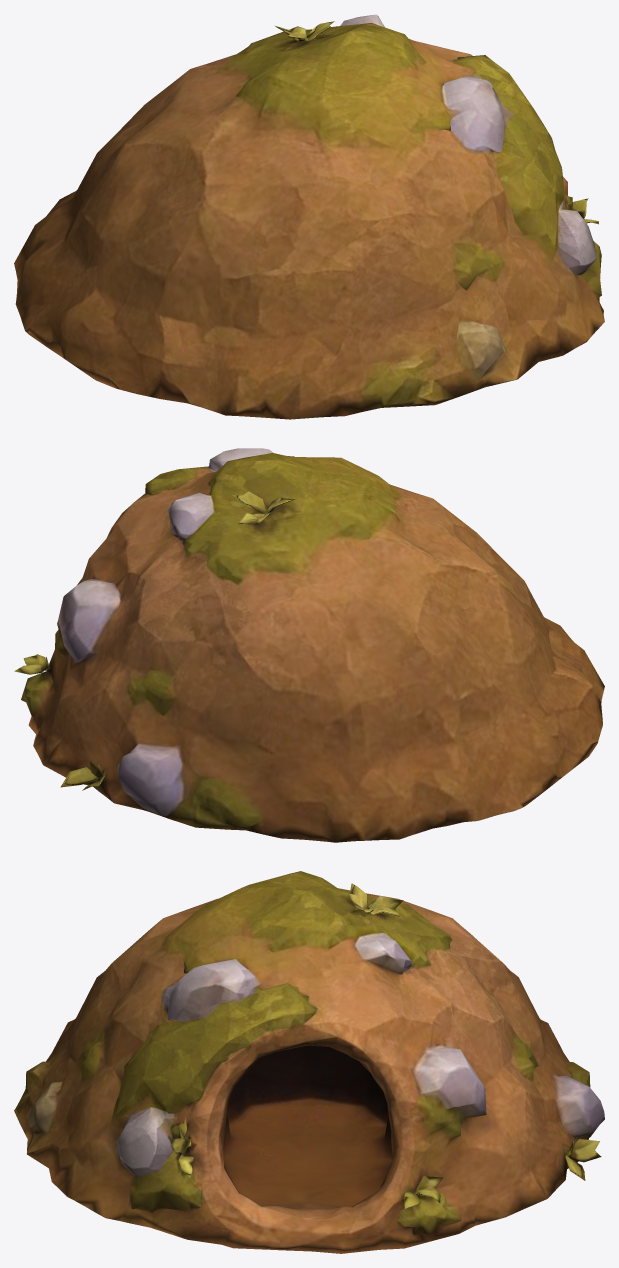
The model's file is earth_hill.glb.
The picture shows the model from 3 angles, top to bottom: view 1: azimuth 30°, elevation 25°; view 2: azimuth 150°, elevation 25°; view 3: azimuth 270°, elevation 25°; orthographic projection. The views are drawn at different scales.
Parts seen in each view (by area): view 1: tripo_node_375bca27-28e6-4b1f-9e52-48e3ee465f17; view 2: tripo_node_375bca27-28e6-4b1f-9e52-48e3ee465f17; view 3: tripo_node_375bca27-28e6-4b1f-9e52-48e3ee465f17.
Part boxes in pixels (left/top/right/bottom): tripo_node_375bca27-28e6-4b1f-9e52-48e3ee465f17: left=14, top=14, right=604, bottom=419; tripo_node_375bca27-28e6-4b1f-9e52-48e3ee465f17: left=14, top=448, right=604, bottom=842; tripo_node_375bca27-28e6-4b1f-9e52-48e3ee465f17: left=14, top=871, right=604, bottom=1253.
Bounding box in the file's own units: 0.9706 × 0.497 × 1.
Materials: 1 (1 with a texture image).
